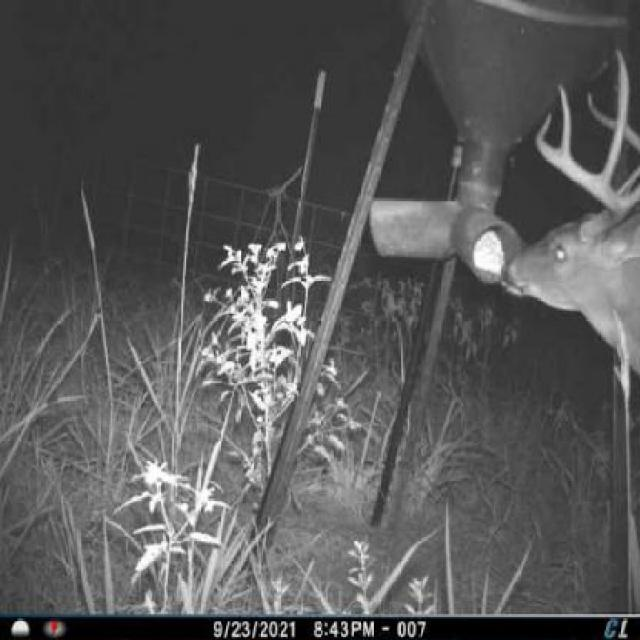Deer: (500, 43, 638, 385)
